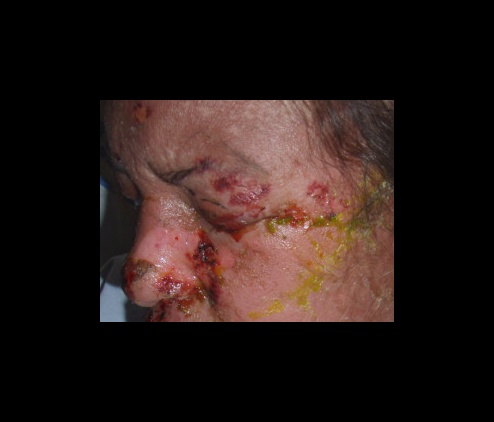SJS-TEN: (92, 95, 399, 328)
